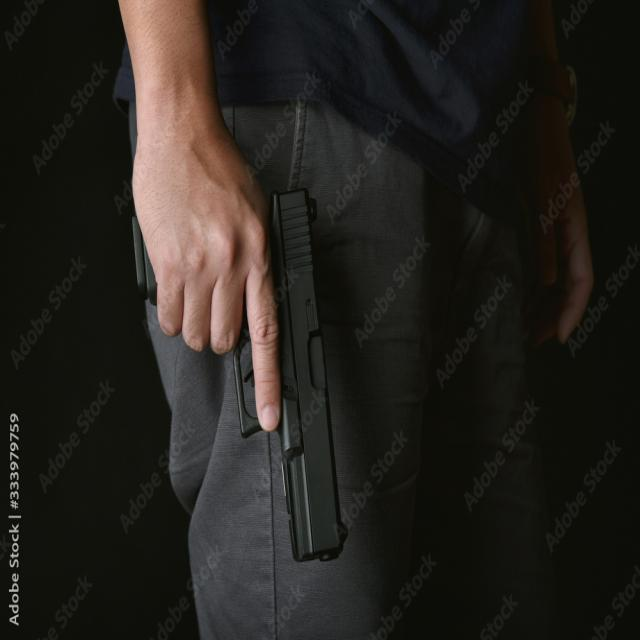HandGun: (234, 190, 348, 564)
